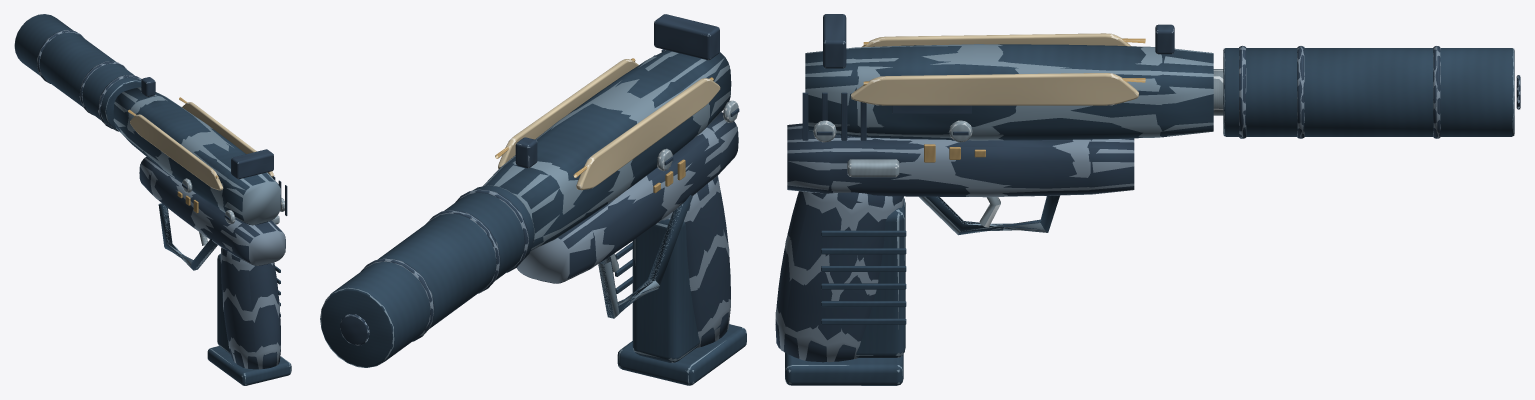
The model's file is anime-usp.glb.
The picture shows the model from 3 angles, left to right: view 1: azimuth 30°, elevation 25°; view 2: azimuth 150°, elevation 25°; view 3: azimuth 270°, elevation 25°; orthographic projection. The views are drawn at different scales.
Parts seen in each view (by area): view 1: weapon_Polymer, weapon_Parkerized steel, slide_Weapon finish / Parkerized steel, World hardware, World paint, slide_Weapon finish / Ivory enamel, magazine_Parkerized steel, slide_Polymer, weapon_Machined edges; view 2: weapon_Parkerized steel, weapon_Polymer, slide_Weapon finish / Parkerized steel, magazine_Parkerized steel, World hardware, slide_Weapon finish / Ivory enamel, World paint, slide_Polymer, weapon_Machined edges; view 3: weapon_Parkerized steel, weapon_Polymer, slide_Weapon finish / Parkerized steel, World hardware, slide_Weapon finish / Ivory enamel, World paint, magazine_Parkerized steel, slide_Polymer, weapon_Machined edges.
Boxes of the visible parts, x1,y1,x2,y2 form: weapon_Polymer: (37,30,285,369); weapon_Parkerized steel: (14,14,280,316); slide_Weapon finish / Parkerized steel: (113,87,281,224); World hardware: (14,14,291,385); World paint: (113,87,280,225); slide_Weapon finish / Ivory enamel: (130,102,274,190); magazine_Parkerized steel: (207,254,291,385); slide_Polymer: (141,77,287,215); weapon_Machined edges: (182,178,284,224); weapon_Parkerized steel: (321,185,692,367); weapon_Polymer: (340,108,739,346); slide_Weapon finish / Parkerized steel: (483,50,731,250); magazine_Parkerized steel: (617,219,746,385); World hardware: (320,20,746,385); slide_Weapon finish / Ivory enamel: (498,59,720,190); World paint: (483,50,730,249); slide_Polymer: (515,14,719,168); weapon_Machined edges: (657,100,738,171); weapon_Parkerized steel: (821,48,1514,324); weapon_Polymer: (775,46,1520,362); slide_Weapon finish / Parkerized steel: (805,44,1213,140); World hardware: (775,14,1520,385); slide_Weapon finish / Ivory enamel: (851,33,1138,105); World paint: (805,33,1213,140); magazine_Parkerized steel: (785,198,905,385); slide_Polymer: (802,14,1174,140); weapon_Machined edges: (813,69,1223,177).
Bounding box in the file's own units: 0.0575 × 0.194 × 0.3834.
8 materials, 6 textured.
